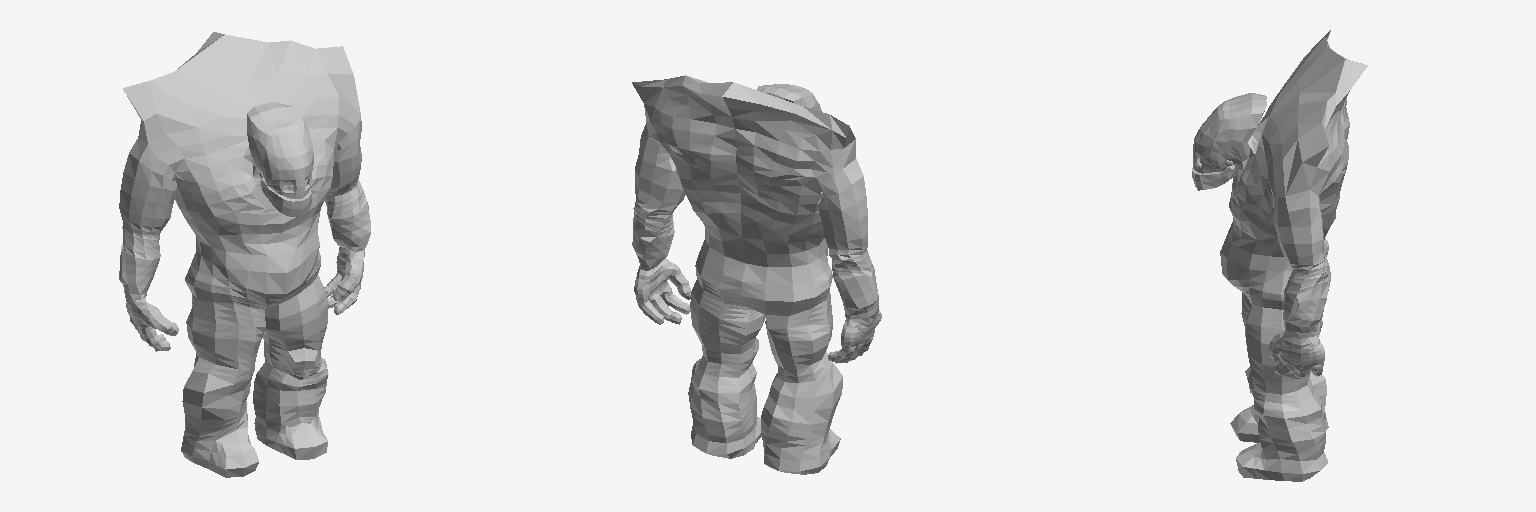
Rendered from golem_000011.obj.
3 renders of one model, left to right at view 1: azimuth 30°, elevation 25°; view 2: azimuth 150°, elevation 25°; view 3: azimuth 270°, elevation 25°, orthographic.
Parts seen in each view (by area): view 1: golem; view 2: golem; view 3: golem.
Part boxes in pixels (x1,y1,x2,y2): golem: (119, 32, 370, 477); golem: (632, 75, 881, 474); golem: (1192, 30, 1367, 481).
Size of the model in its own units: 7.35 by 11.31 by 4.6.